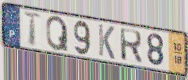8: (147, 33, 166, 68)
9: (73, 20, 92, 57)
K: (97, 23, 116, 62)
Q: (45, 15, 70, 53)
R: (118, 27, 143, 65)
T: (22, 10, 43, 48)
